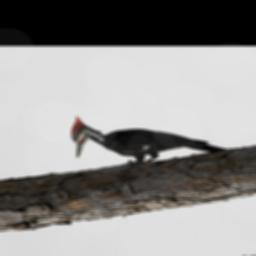Woodpecker: (63, 93, 230, 174)
